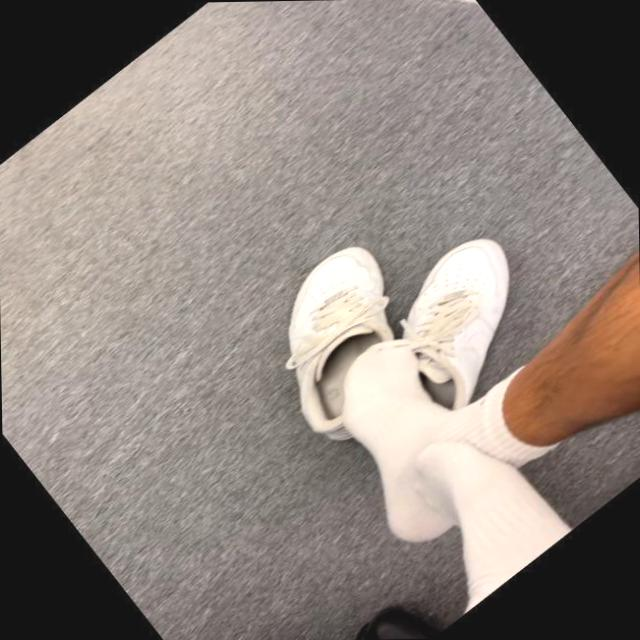nike_fake_airforce: (269, 211, 636, 570), (227, 228, 466, 468)
